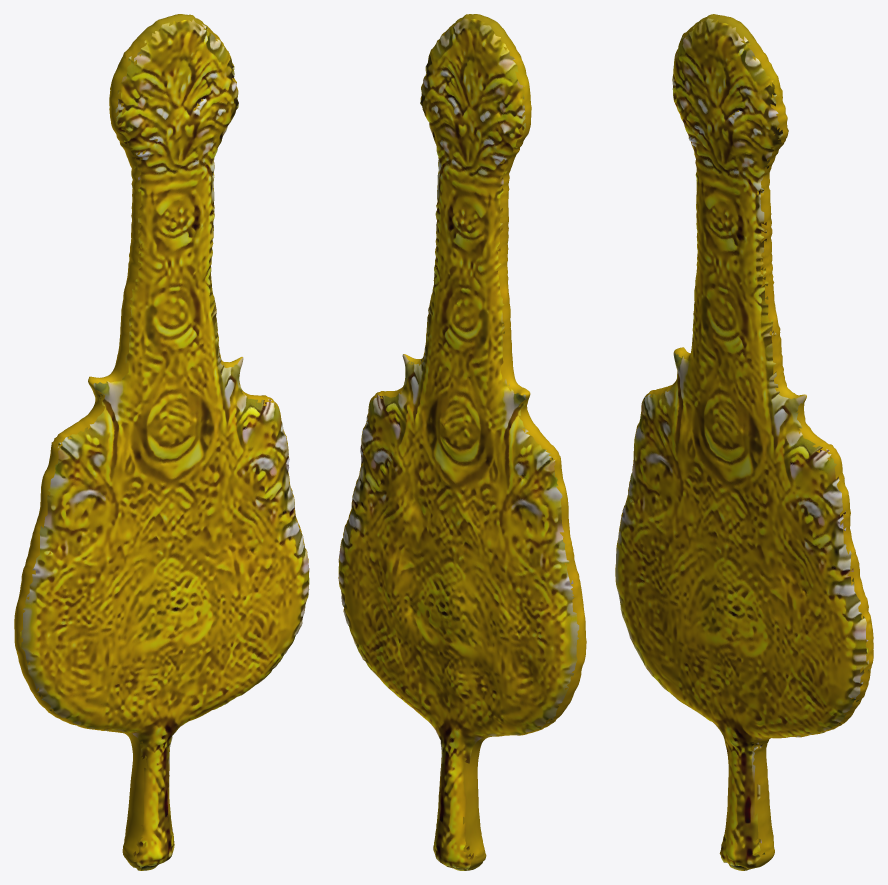
File: kfl-2295.glb
The picture shows the model from 3 angles, left to right: view 1: azimuth 30°, elevation 25°; view 2: azimuth 150°, elevation 25°; view 3: azimuth 330°, elevation 25°; orthographic projection. The views are drawn at different scales.
Visible parts, largest first — view 1: kfl-2295; view 2: kfl-2295; view 3: kfl-2295.
Part boxes in pixels (x1,y1,x2,y2): kfl-2295: (14, 14, 309, 870); kfl-2295: (338, 14, 586, 870); kfl-2295: (615, 14, 873, 870).
Size of the model in its own units: 0.326 by 0.9906 by 0.0945.
Materials: 4 (4 with a texture image).
